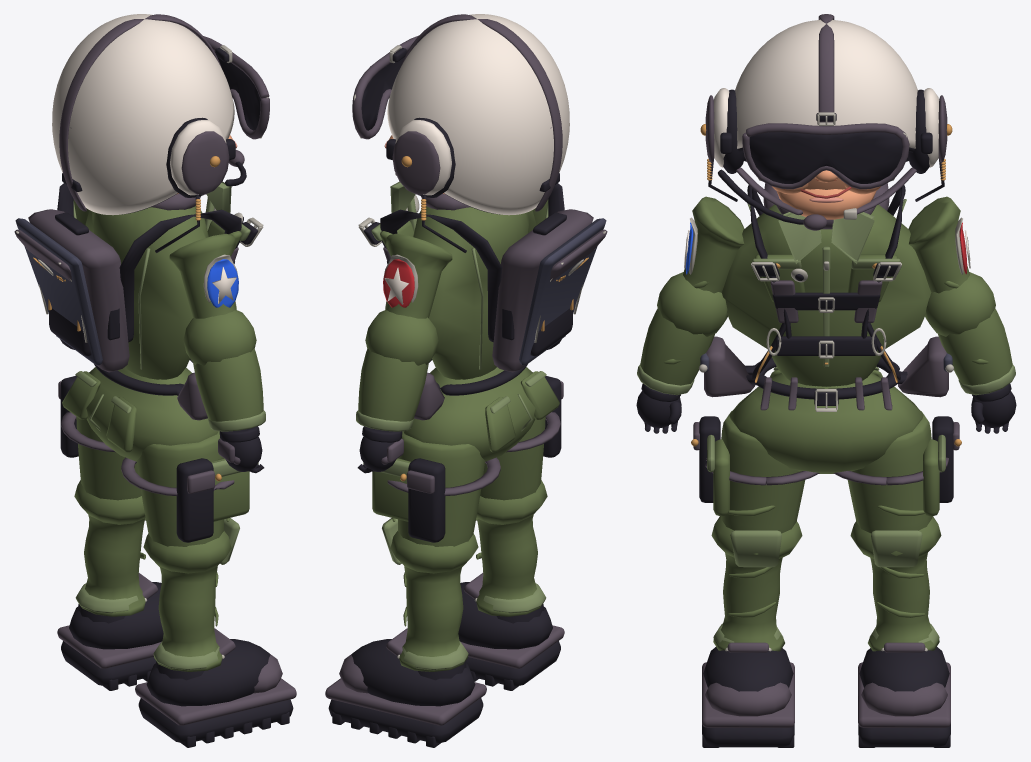
The picture shows the model from 3 angles, left to right: view 1: azimuth 30°, elevation 25°; view 2: azimuth 150°, elevation 25°; view 3: azimuth 270°, elevation 25°; orthographic projection.
Parts seen in each view (by area): view 1: head__geometry, torso__geometry, footR__geometry, legR__geometry, hip__geometry, shinR__geometry, foreArmR__geometry, shinL__geometry, footL__geometry, armR__geometry, legL__geometry, handR__geometry; view 2: head__geometry, torso__geometry, footL__geometry, legL__geometry, hip__geometry, shinL__geometry, foreArmL__geometry, shinR__geometry, footR__geometry, armL__geometry, legR__geometry, handL__geometry; view 3: head__geometry, torso__geometry, hip__geometry, footL__geometry, footR__geometry, legL__geometry, legR__geometry, shinL__geometry, shinR__geometry, foreArmR__geometry, foreArmL__geometry, armL__geometry (+3 smaller).
Boxes of the visible parts, x1,y1,x2,y2 form: head__geometry: (52, 14, 269, 252); torso__geometry: (14, 181, 263, 379); footR__geometry: (135, 628, 296, 747); legR__geometry: (121, 431, 258, 546); hip__geometry: (62, 359, 218, 461); shinR__geometry: (143, 518, 239, 671); foreArmR__geometry: (183, 310, 265, 431); shinL__geometry: (74, 480, 145, 616); footL__geometry: (57, 573, 163, 690); armR__geometry: (169, 233, 238, 318); legL__geometry: (58, 376, 141, 500); handR__geometry: (218, 426, 264, 473); head__geometry: (352, 14, 569, 252); torso__geometry: (358, 181, 607, 379); footL__geometry: (325, 628, 486, 747); legL__geometry: (363, 431, 500, 546); hip__geometry: (403, 359, 559, 461); shinL__geometry: (382, 518, 478, 671); foreArmL__geometry: (356, 310, 438, 431); shinR__geometry: (476, 480, 547, 616); footR__geometry: (458, 573, 564, 690); armL__geometry: (383, 233, 452, 318); legR__geometry: (480, 376, 563, 500); handL__geometry: (357, 426, 403, 473); head__geometry: (700, 14, 952, 230); torso__geometry: (721, 183, 931, 386); hip__geometry: (699, 336, 953, 473); footL__geometry: (858, 642, 950, 747); footR__geometry: (702, 642, 794, 747); legL__geometry: (833, 410, 961, 533); legR__geometry: (691, 410, 819, 533); shinL__geometry: (850, 516, 941, 651); shinR__geometry: (711, 516, 802, 651); foreArmR__geometry: (637, 272, 727, 395); foreArmL__geometry: (925, 272, 1015, 395); armL__geometry: (908, 196, 970, 293).
Bounding box in the file's own units: 0.4243 × 1.35 × 0.6815.
